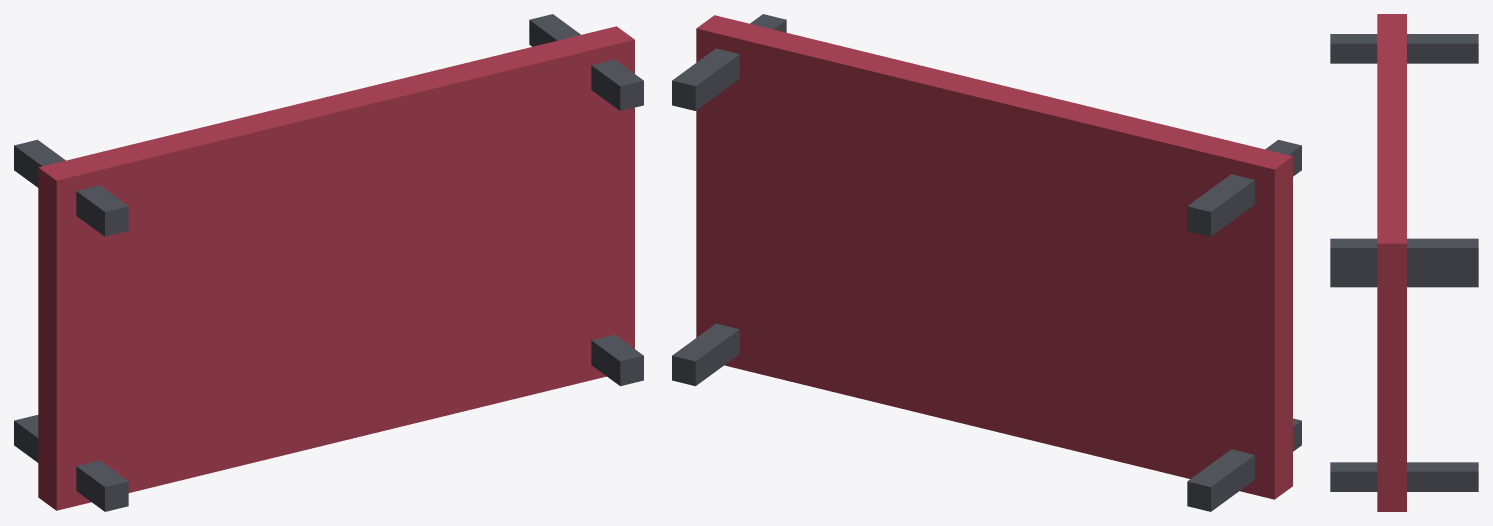
File: workbench_v01.glb
The picture shows the model from 3 angles, left to right: view 1: azimuth 30°, elevation 25°; view 2: azimuth 150°, elevation 25°; view 3: azimuth 270°, elevation 25°; orthographic projection. The views are drawn at different scales.
Parts seen in each view (by area): view 1: box_0, box_2, box_4, box_1, box_3; view 2: box_0, box_2, box_4, box_1, box_3; view 3: box_0, box_2, box_3, box_4, box_1.
Boxes of the visible parts, left/top/right/bottom form: box_0: left=38, top=26, right=634, bottom=510; box_2: left=14, top=139, right=128, bottom=236; box_4: left=529, top=14, right=643, bottom=110; box_1: left=14, top=415, right=128, bottom=511; box_3: left=591, top=334, right=643, bottom=386; box_0: left=696, top=15, right=1292, bottom=499; box_2: left=1187, top=139, right=1301, bottom=236; box_4: left=672, top=14, right=786, bottom=110; box_1: left=1187, top=418, right=1301, bottom=511; box_3: left=672, top=323, right=739, bottom=386; box_0: left=1377, top=14, right=1406, bottom=511; box_2: left=1330, top=34, right=1478, bottom=63; box_3: left=1330, top=462, right=1478, bottom=491; box_4: left=1330, top=238, right=1478, bottom=267; box_1: left=1330, top=268, right=1478, bottom=287.
Bounding box in the file's own units: 2.2 × 1.2 × 0.6.
